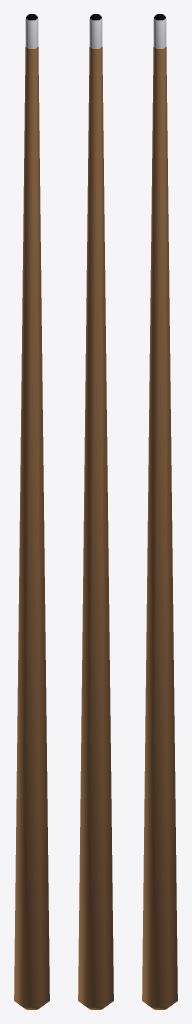
Rendered from PoolCue.fbx.
The picture shows the model from 3 angles, left to right: view 1: azimuth 90°, elevation 25°; view 2: azimuth 150°, elevation 25°; view 3: azimuth 270°, elevation 25°; orthographic projection.
Parts seen in each view (by area): view 1: Cylinder; view 2: Cylinder; view 3: Cylinder.
Boxes of the visible parts, left/top/right/bottom form: Cylinder: left=14, top=14, right=49, bottom=1009; Cylinder: left=78, top=14, right=113, bottom=1009; Cylinder: left=142, top=14, right=177, bottom=1009.
Bounding box in the file's own units: 38.46 × 1354 × 44.4.
